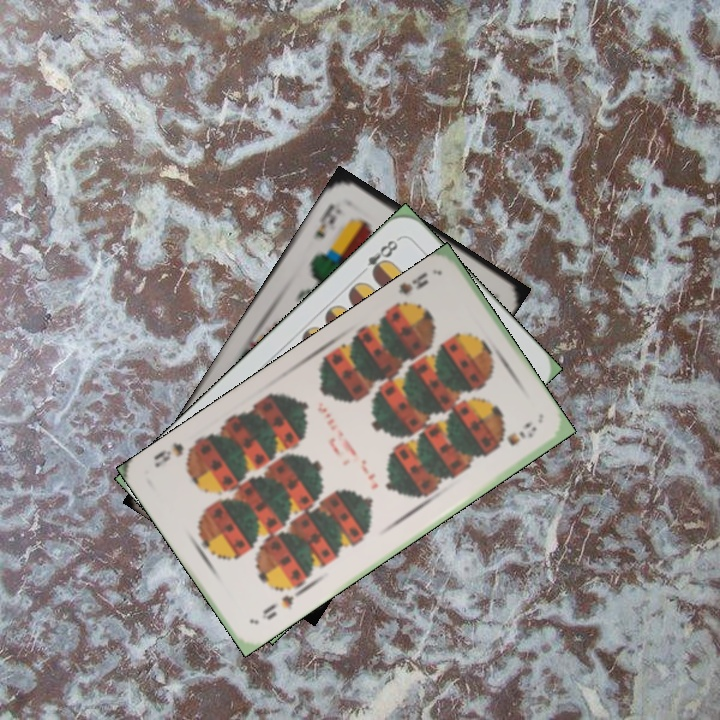E8: (355, 233, 403, 280)
EK: (310, 199, 340, 242)
S9: (388, 268, 431, 315), (257, 587, 304, 623)
